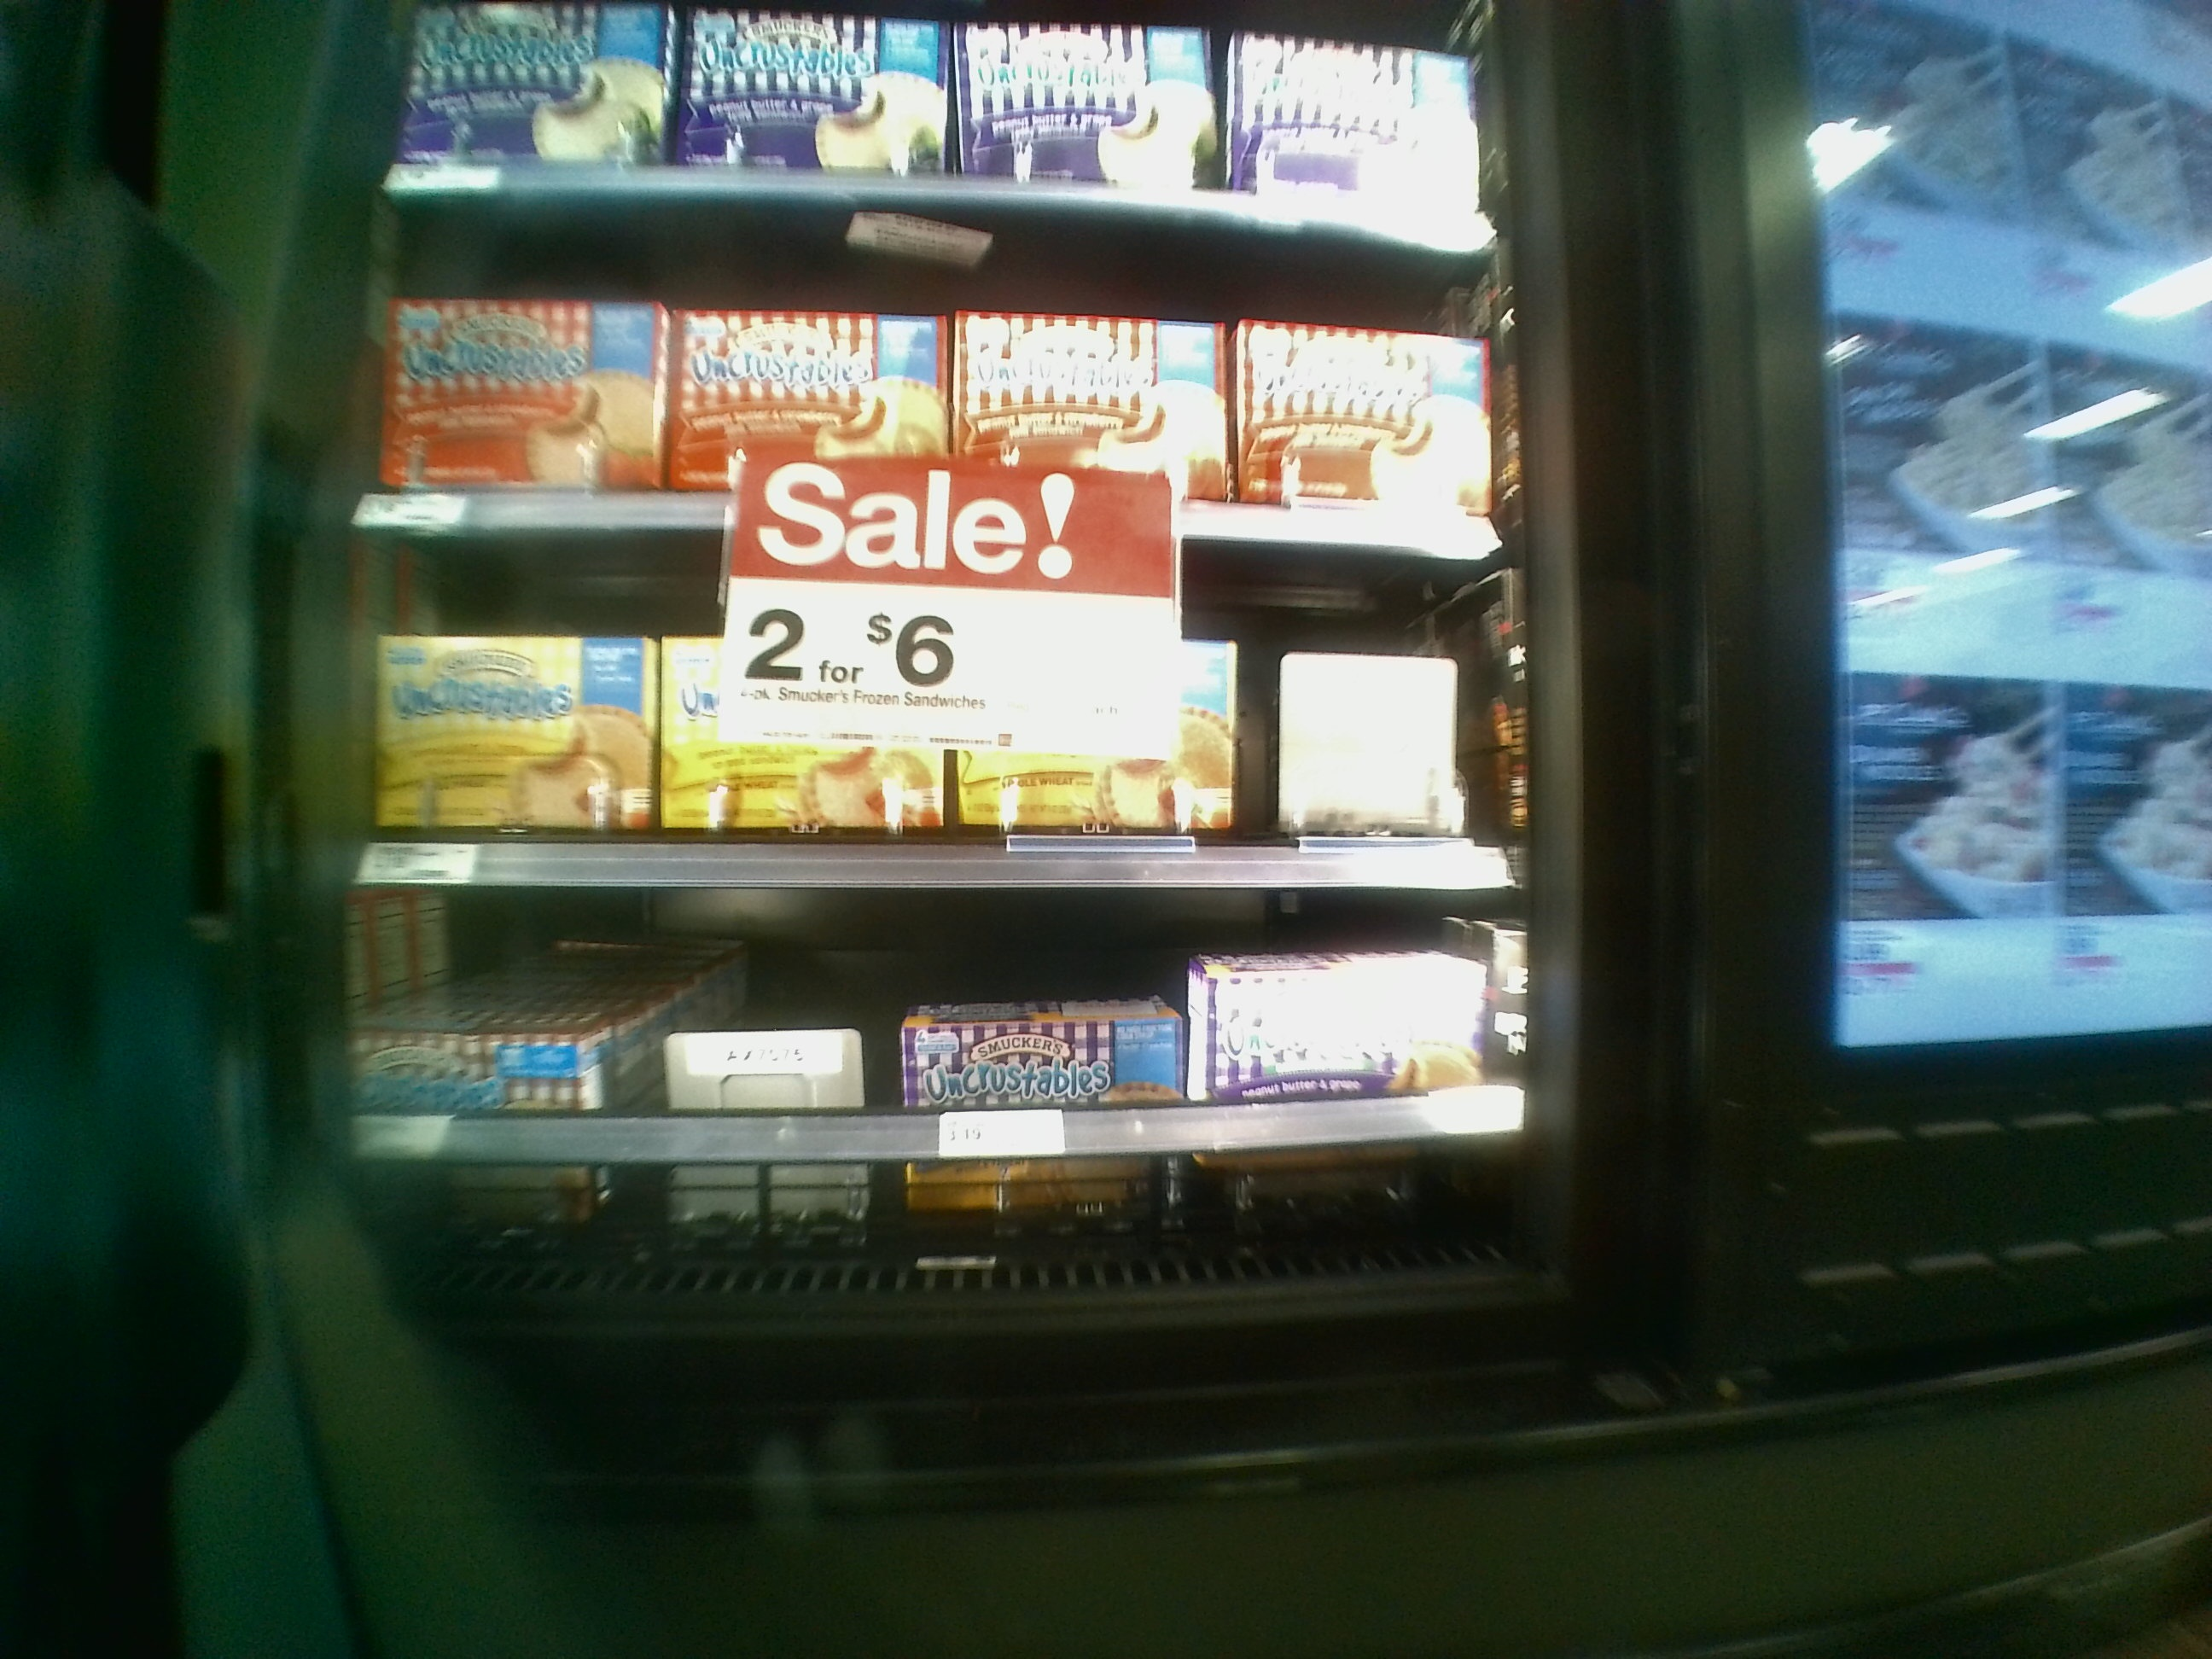shelf: (319, 896, 1566, 1321), (355, 181, 1510, 561), (329, 545, 1515, 887)
